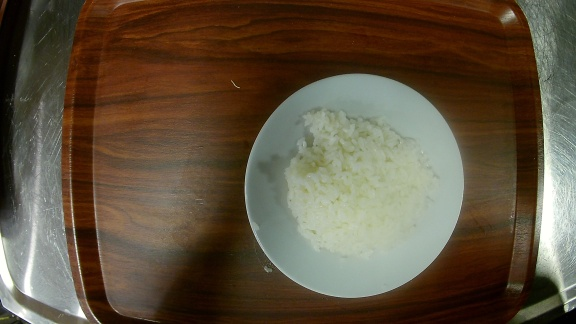pilav: (245, 73, 465, 299)
